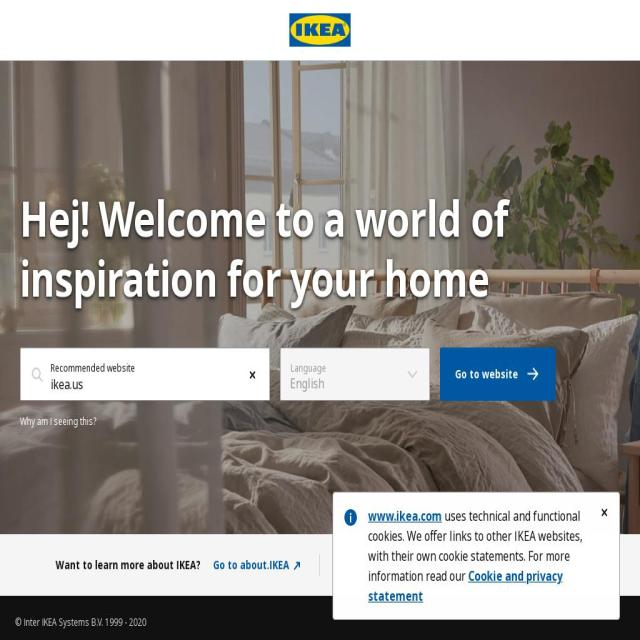button: (440, 348, 556, 402), (289, 13, 351, 47)
field: (20, 348, 270, 402), (280, 348, 430, 402)
heading: (20, 184, 508, 312)
image: (289, 13, 351, 47)
label: (51, 361, 135, 377), (291, 361, 326, 377)
link: (368, 567, 563, 605), (368, 507, 442, 525)
text: (368, 507, 583, 585), (280, 348, 430, 402), (335, 557, 474, 573), (56, 558, 200, 572), (15, 615, 129, 630), (213, 557, 289, 573), (455, 366, 521, 382), (20, 416, 96, 427), (129, 615, 146, 630)
